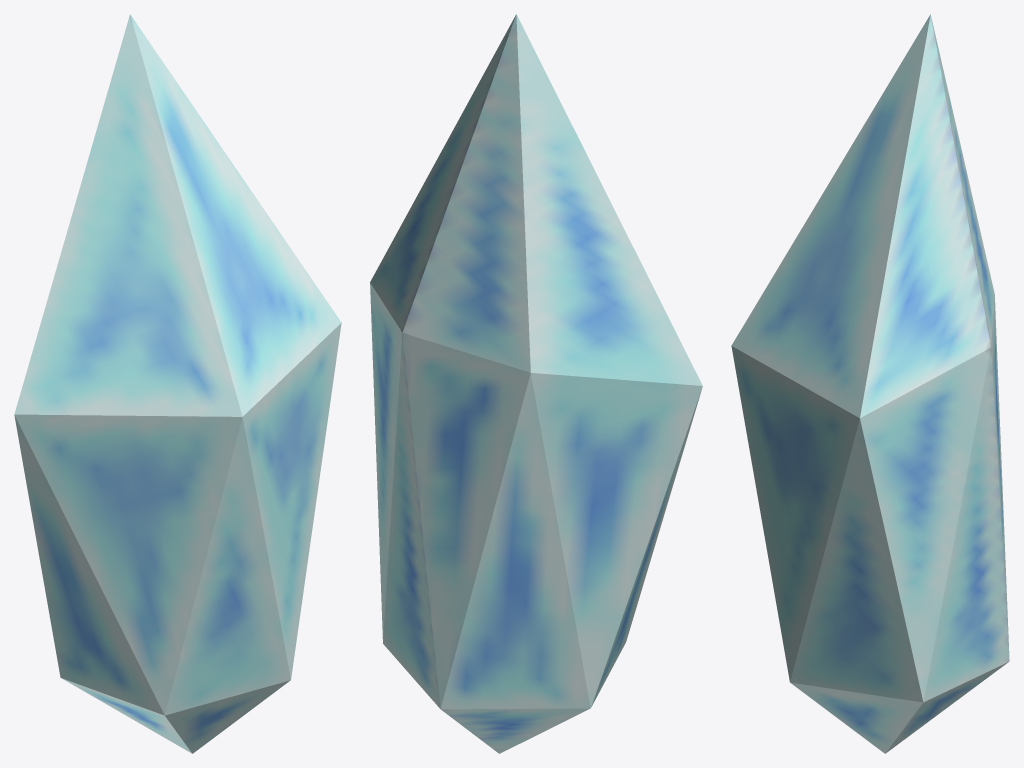
Rendered from crystal white.glb.
3 renders of one model, left to right at view 1: azimuth 30°, elevation 25°; view 2: azimuth 150°, elevation 25°; view 3: azimuth 270°, elevation 25°, orthographic. The views are drawn at different scales.
Visible parts, largest first — view 1: staff.001; view 2: staff.001; view 3: staff.001.
Part boxes in pixels (x1,y1,x2,y2): staff.001: (14,14,341,753); staff.001: (370,14,702,753); staff.001: (731,14,1009,753).
Size of the model in its own units: 0.1779 by 0.3862 by 0.135.
1 material, 1 textured.
